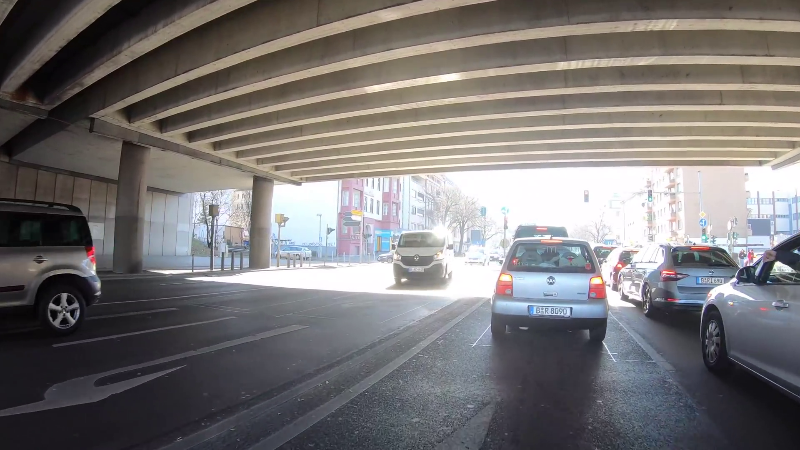Plate: (529, 304, 571, 318), (693, 275, 723, 283), (408, 265, 425, 272)
